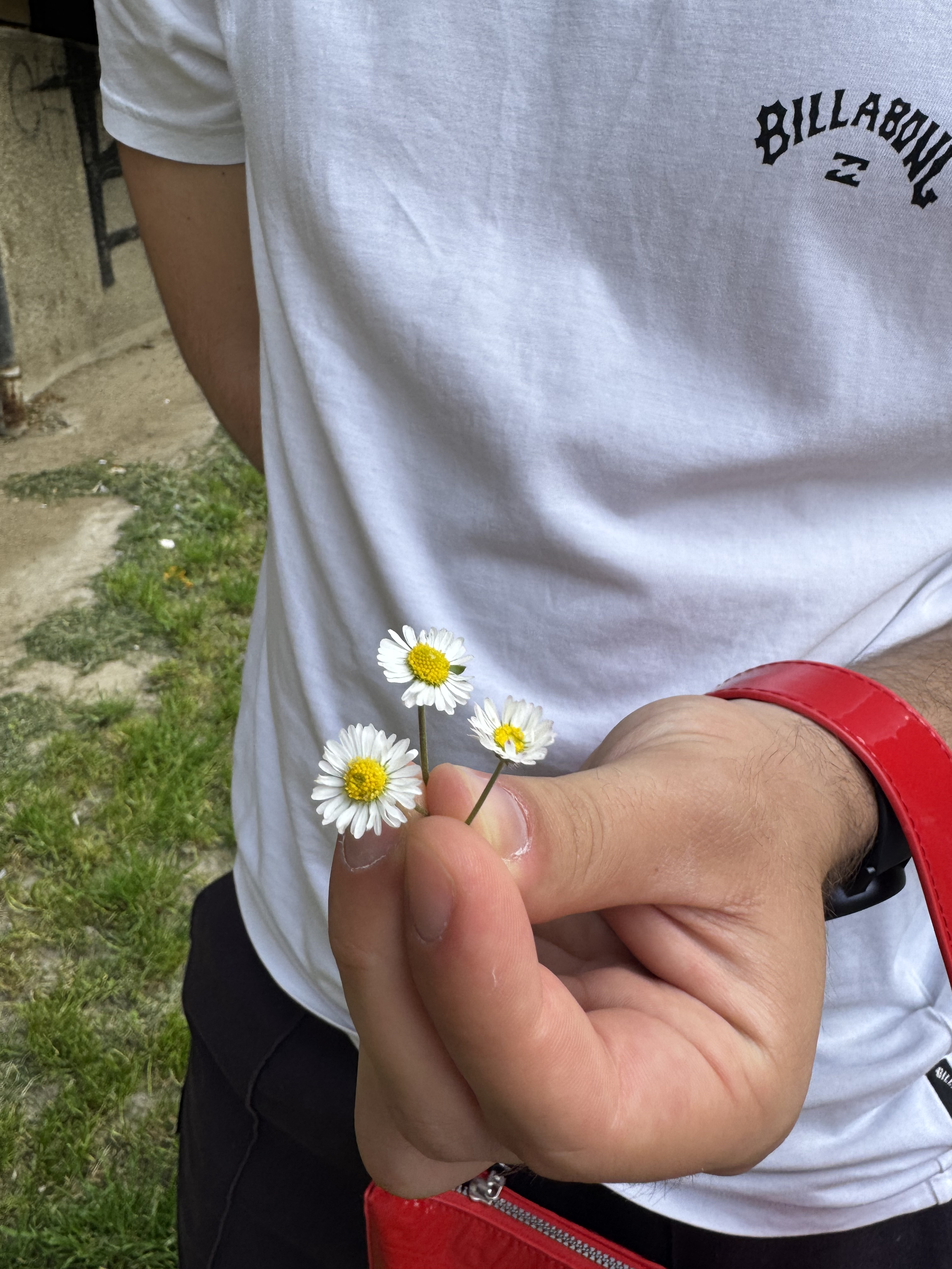daisy: (310, 724, 424, 846), (379, 620, 474, 717), (465, 691, 557, 767)
